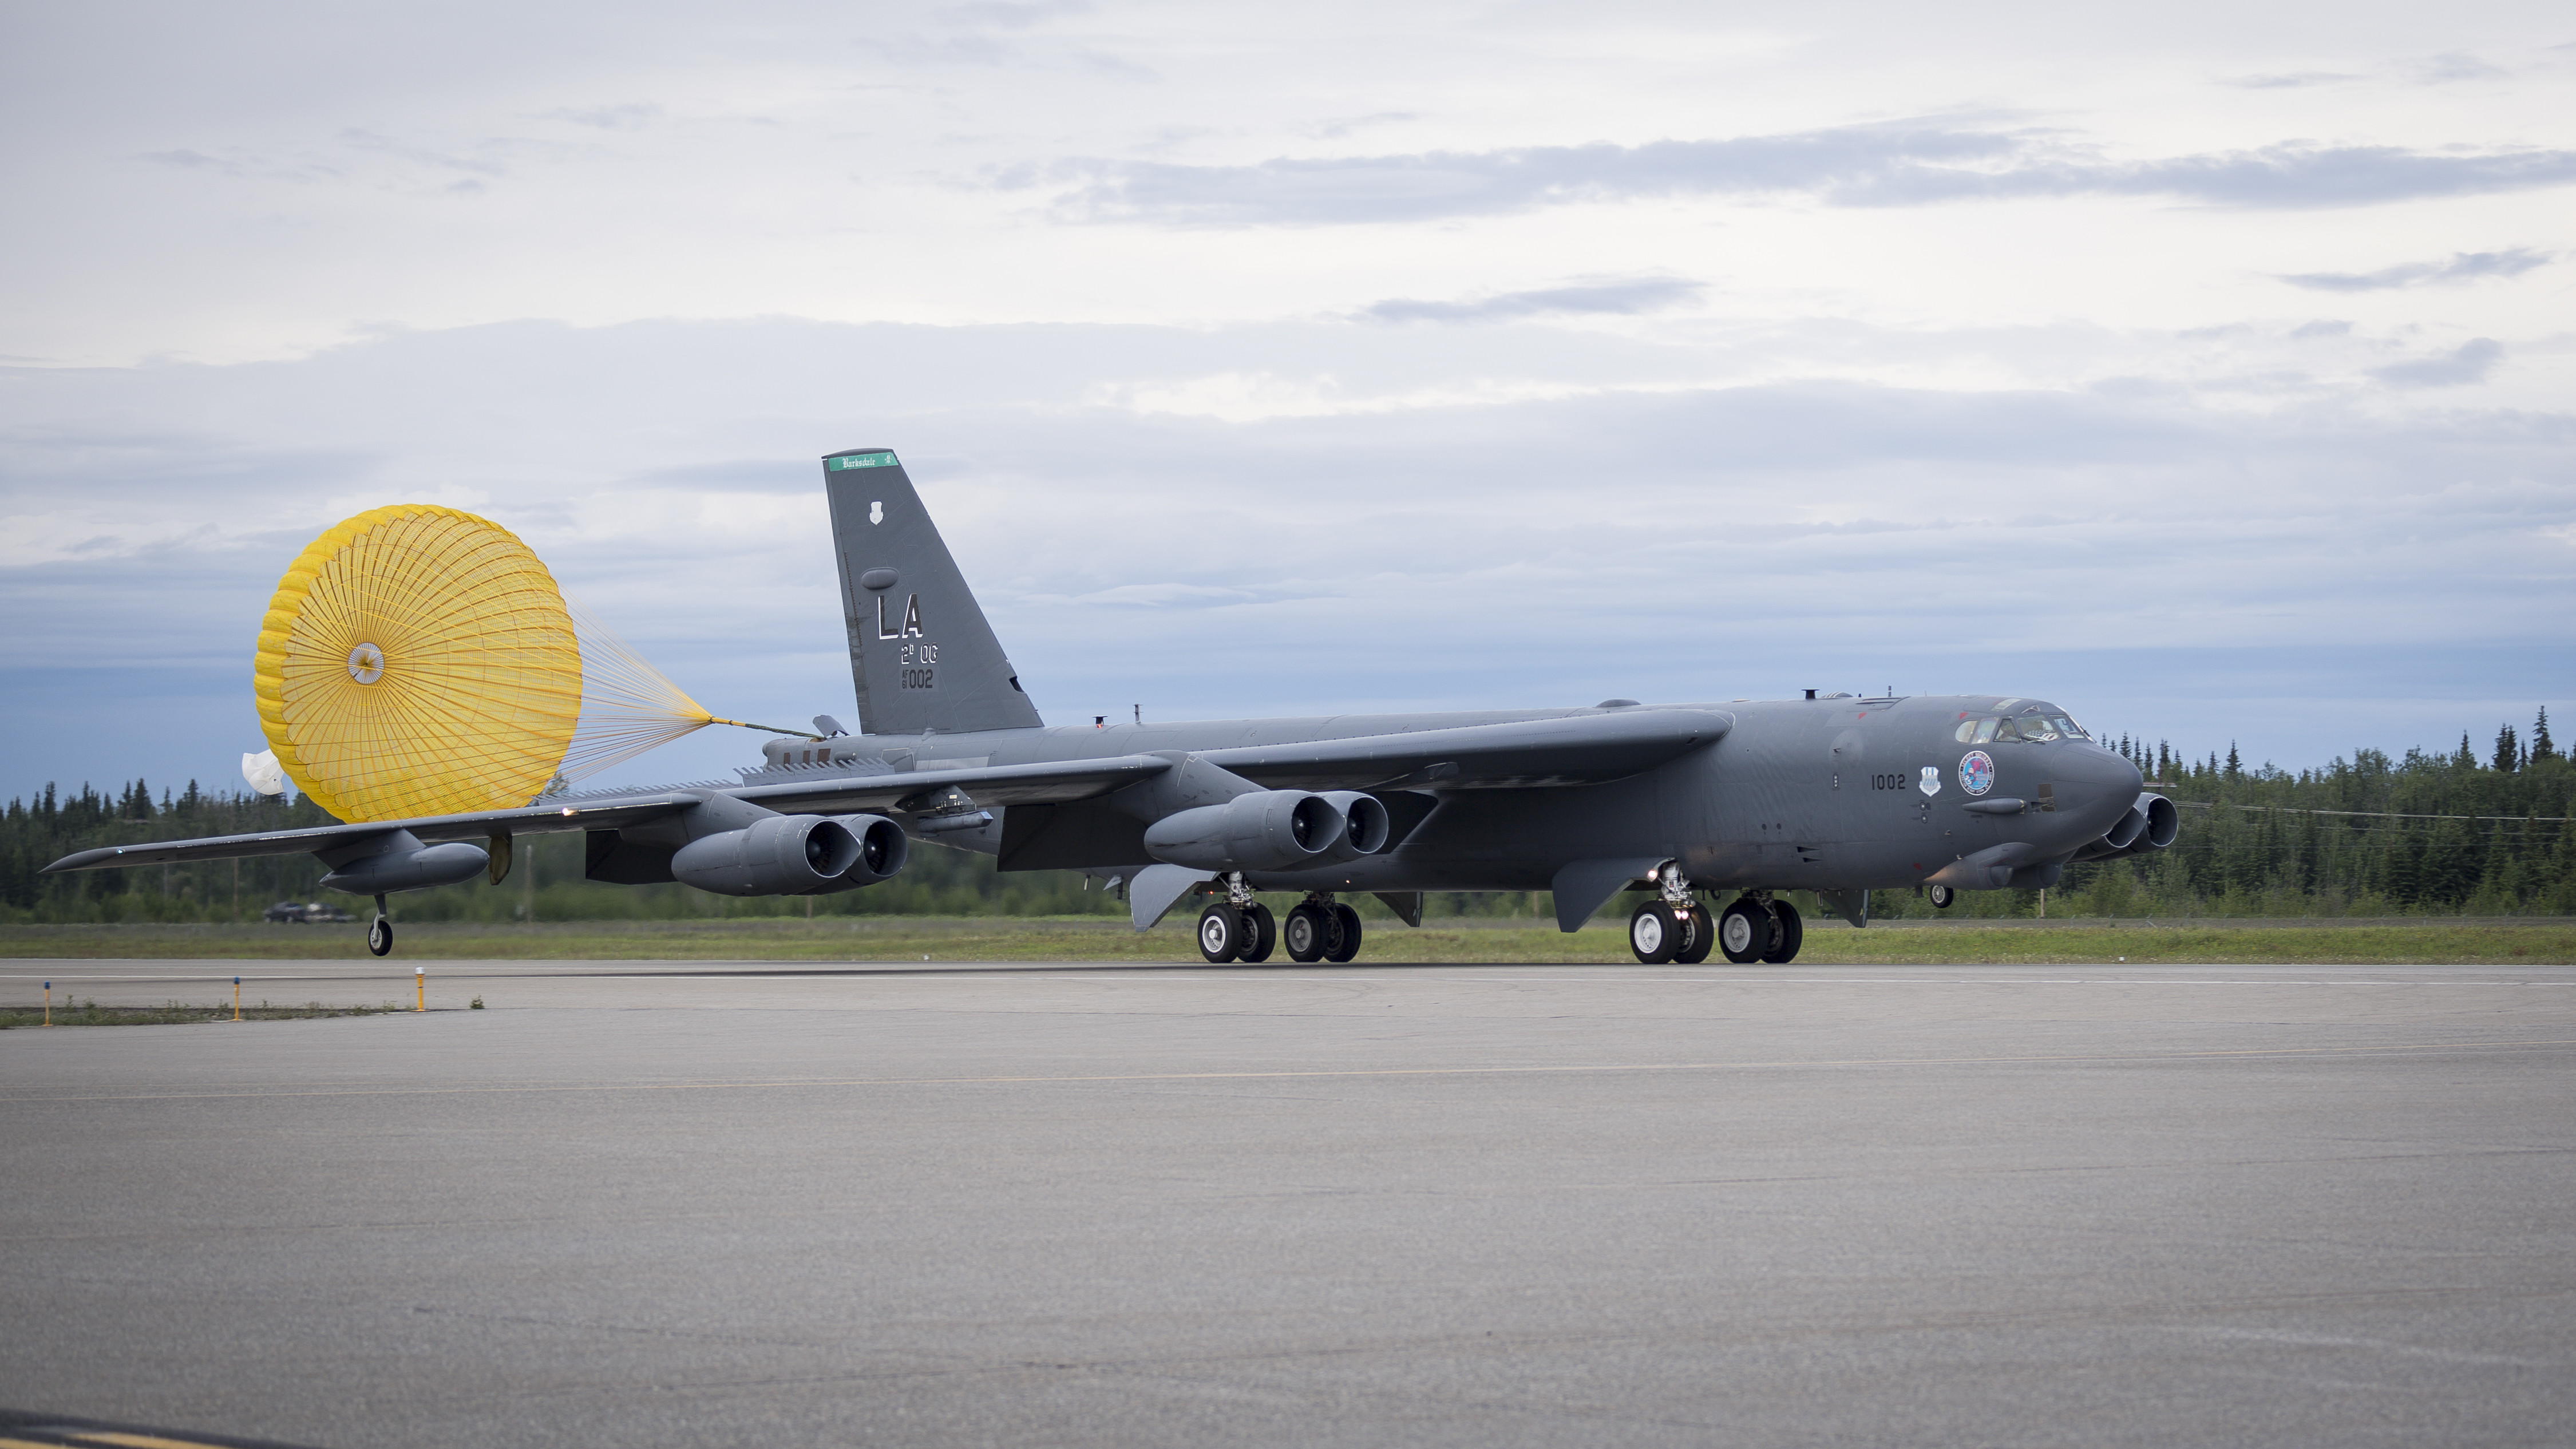B52: (34, 448, 2180, 962)
